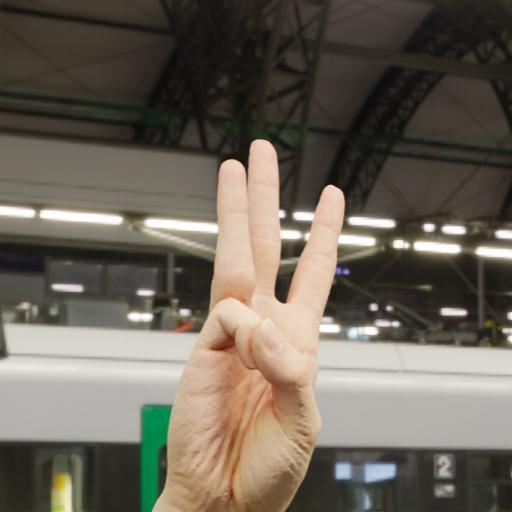W: (149, 116, 390, 512)
